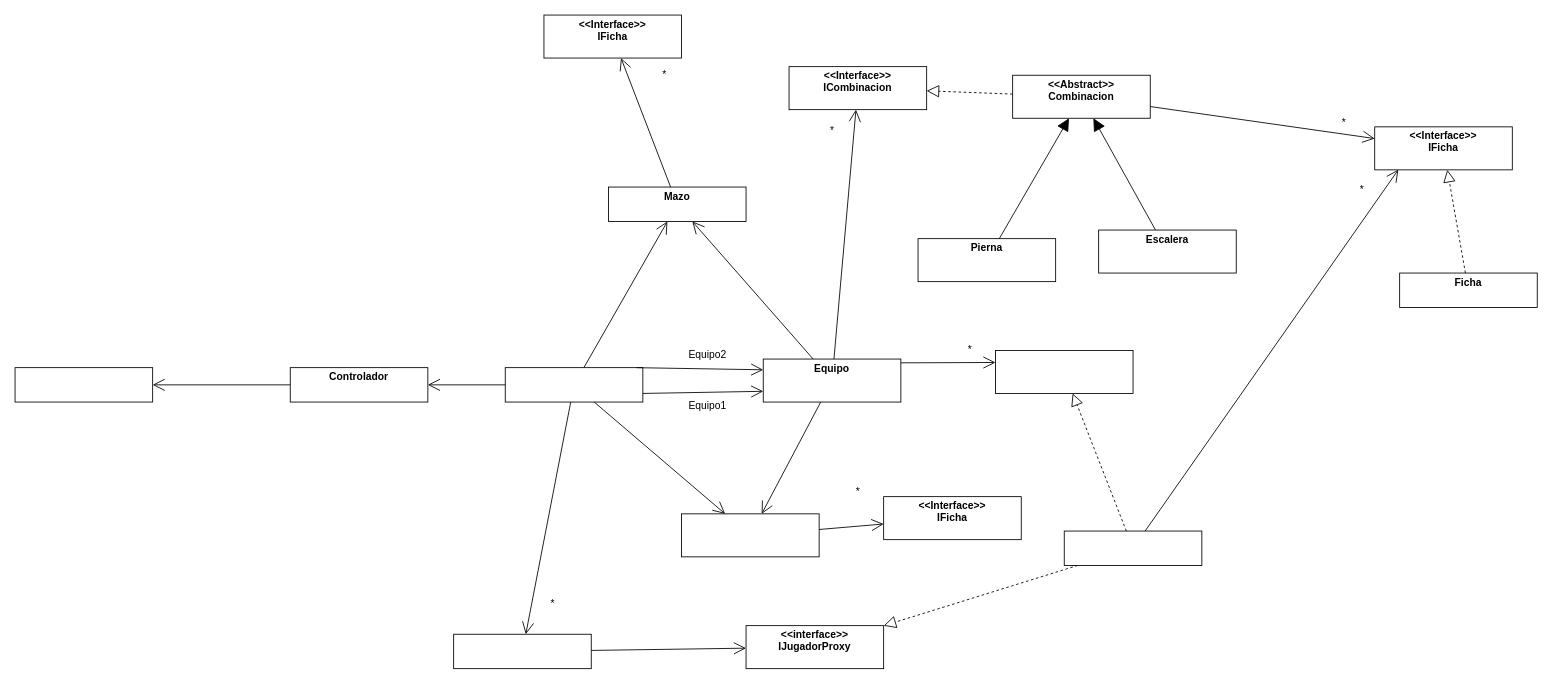
The diagram is 1552 pixels wide and 684 high, and some of its shapes have lost their labels. Each missing label, with the centre of its shape:
<<interface>> IJugador: [1064,371]
IVista: [83,384]
Jugador: [1132,547]
JugadorDesconectado: [522,651]
Pozo: [750,535]
Tablero: [573,384]
